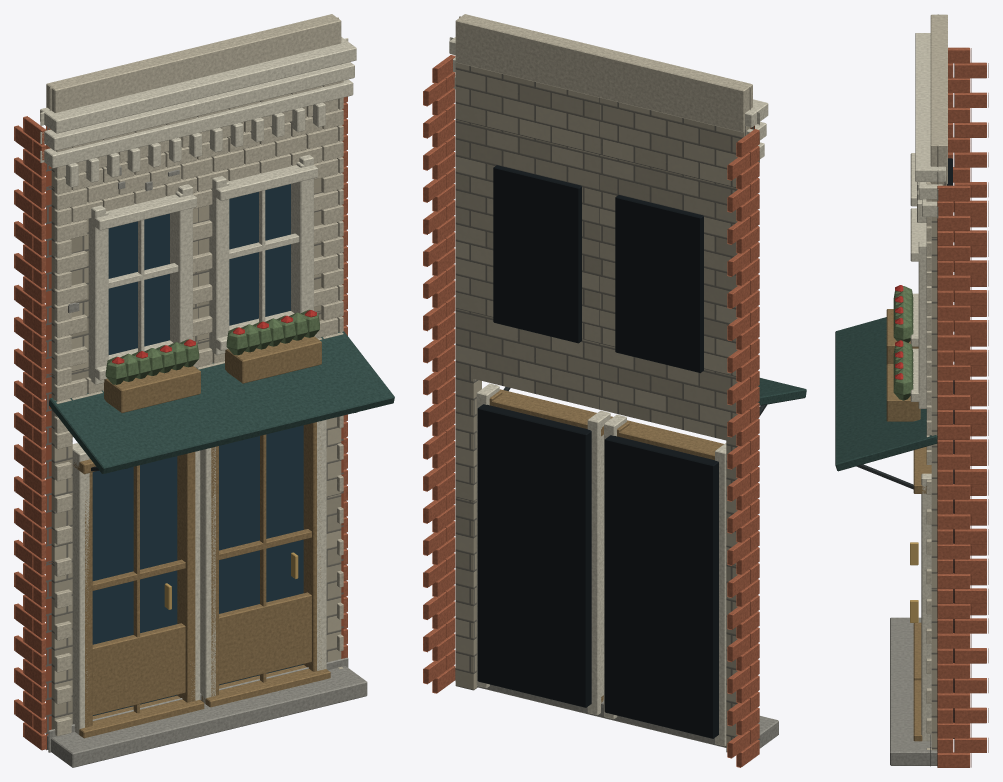
The model's file is BUSS8_lod0.glb.
3 views of the same model, side by side, from view 1: azimuth 30°, elevation 25°; view 2: azimuth 150°, elevation 25°; view 3: azimuth 270°, elevation 25° (orthographic). The views are drawn at different scales.
Visible parts, largest first — view 1: BUSS8_FRONT_LOD0; view 2: BUSS8_FRONT_LOD0; view 3: BUSS8_FRONT_LOD0.
Part boxes in pixels (box(x1,y1,x2,y2)): BUSS8_FRONT_LOD0: box(14, 14, 394, 767); BUSS8_FRONT_LOD0: box(423, 14, 806, 767); BUSS8_FRONT_LOD0: box(835, 14, 988, 767).
Size of the model in its own units: 3.44 by 7.05 by 1.59.
19 materials, 16 textured.
